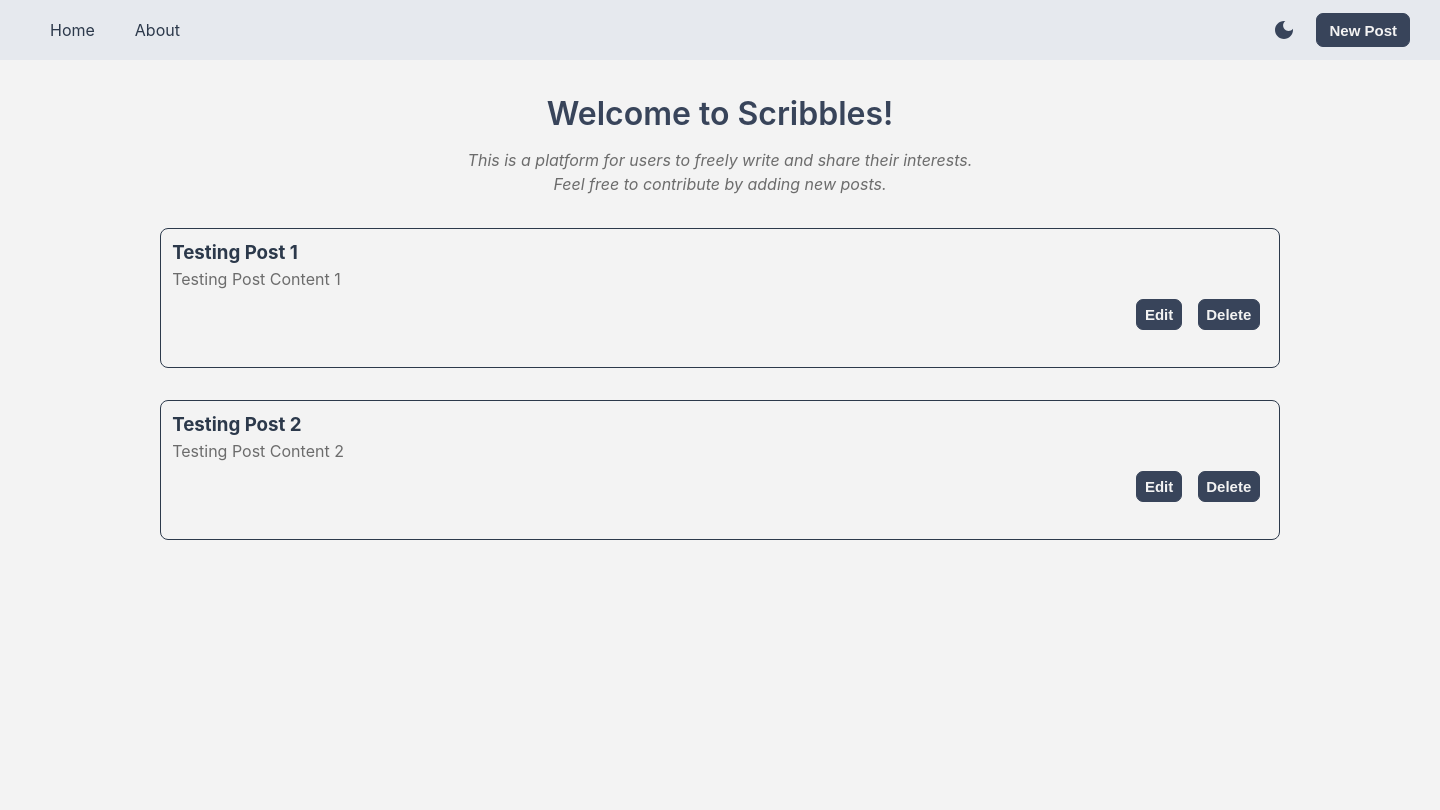
Test: App Component › edit post
Click the 1st button "Edit": (1159, 314) x1=1136 y1=299 x2=1182 y2=330
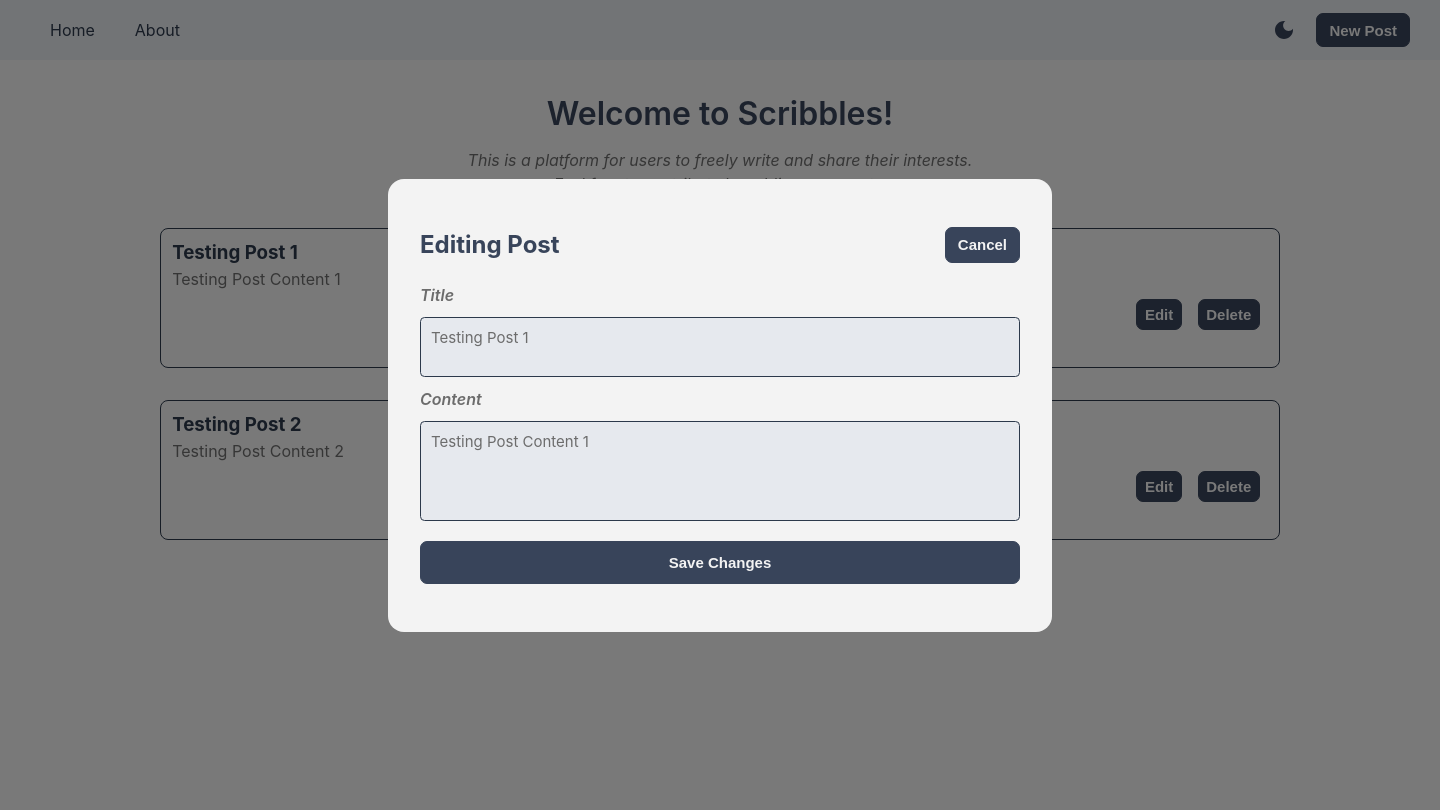
Check: the heading "Editing Post" is shown, box x1=420 y1=226 x2=560 y2=262
Check: the text box "Testing Post 1" is shown
Check: the text box "Testing Post Content 1" is shown, box x1=420 y1=420 x2=1020 y2=520
Replace the text in the text box with placeholder "Enter title" with "Change Post Title 1": (720, 346) x1=420 y1=316 x2=1020 y2=376
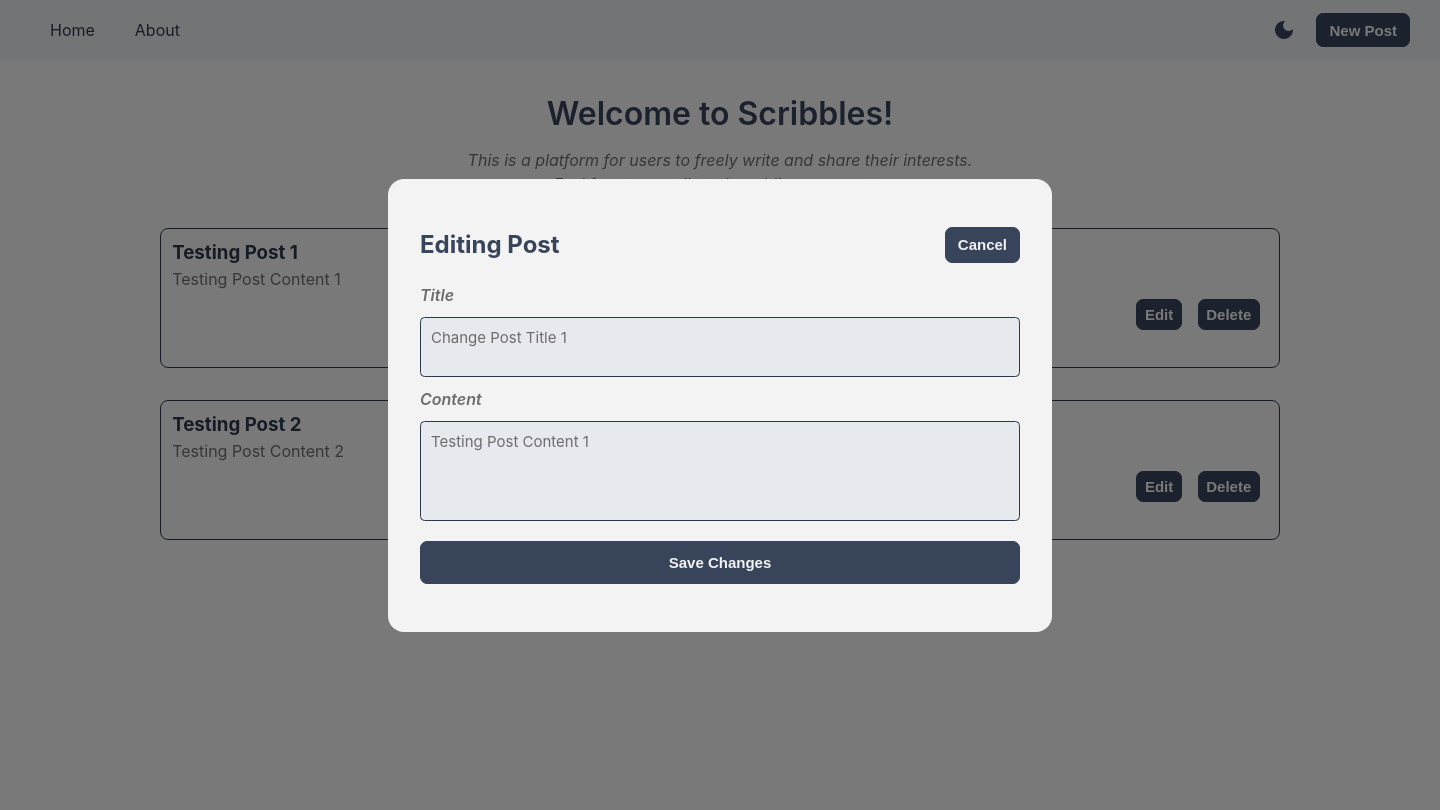
Replace the text in the text box with placeholder "Enter content" with "Change Post Content 1": (720, 470) x1=420 y1=420 x2=1020 y2=520
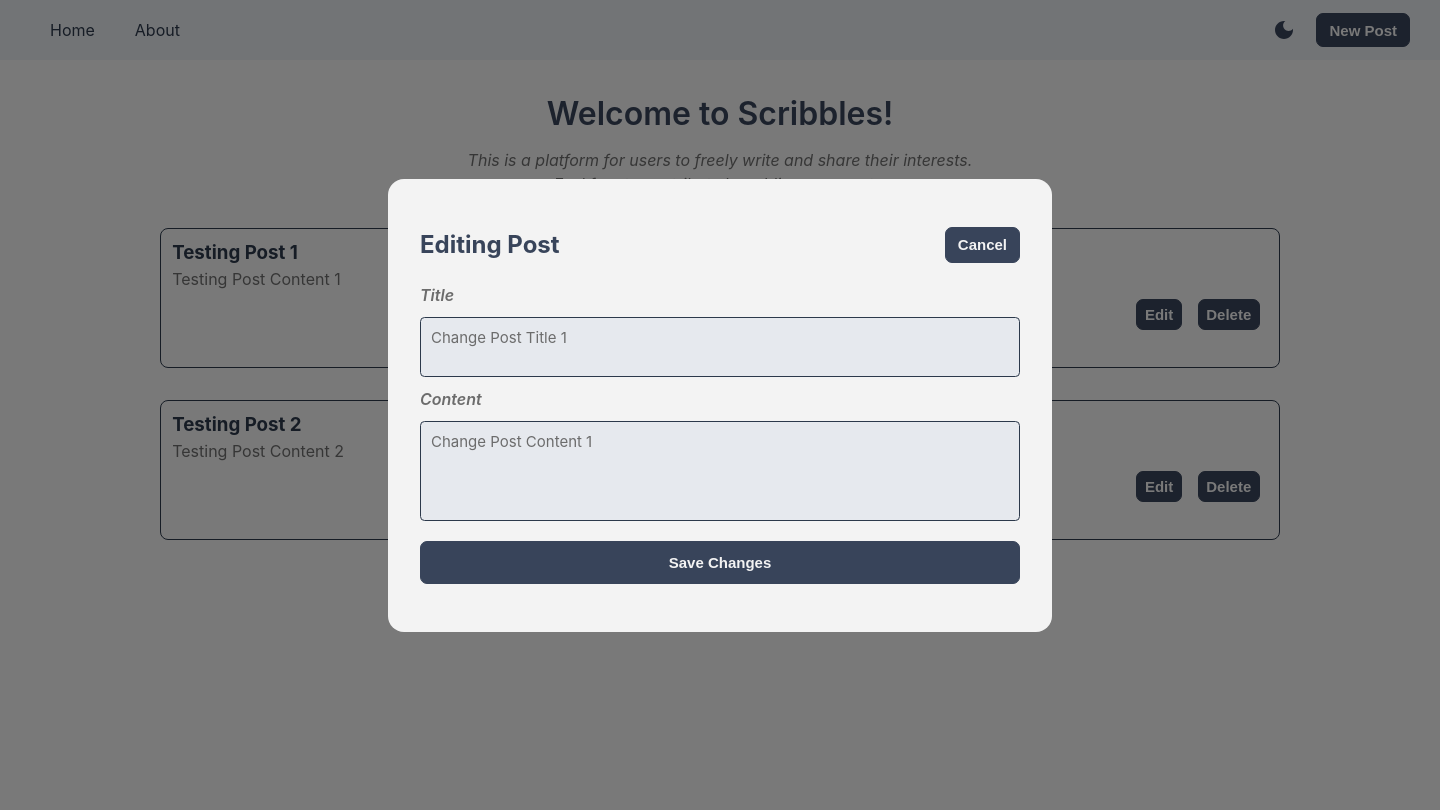
Click the button "Save Changes": (720, 562) x1=420 y1=540 x2=1020 y2=584
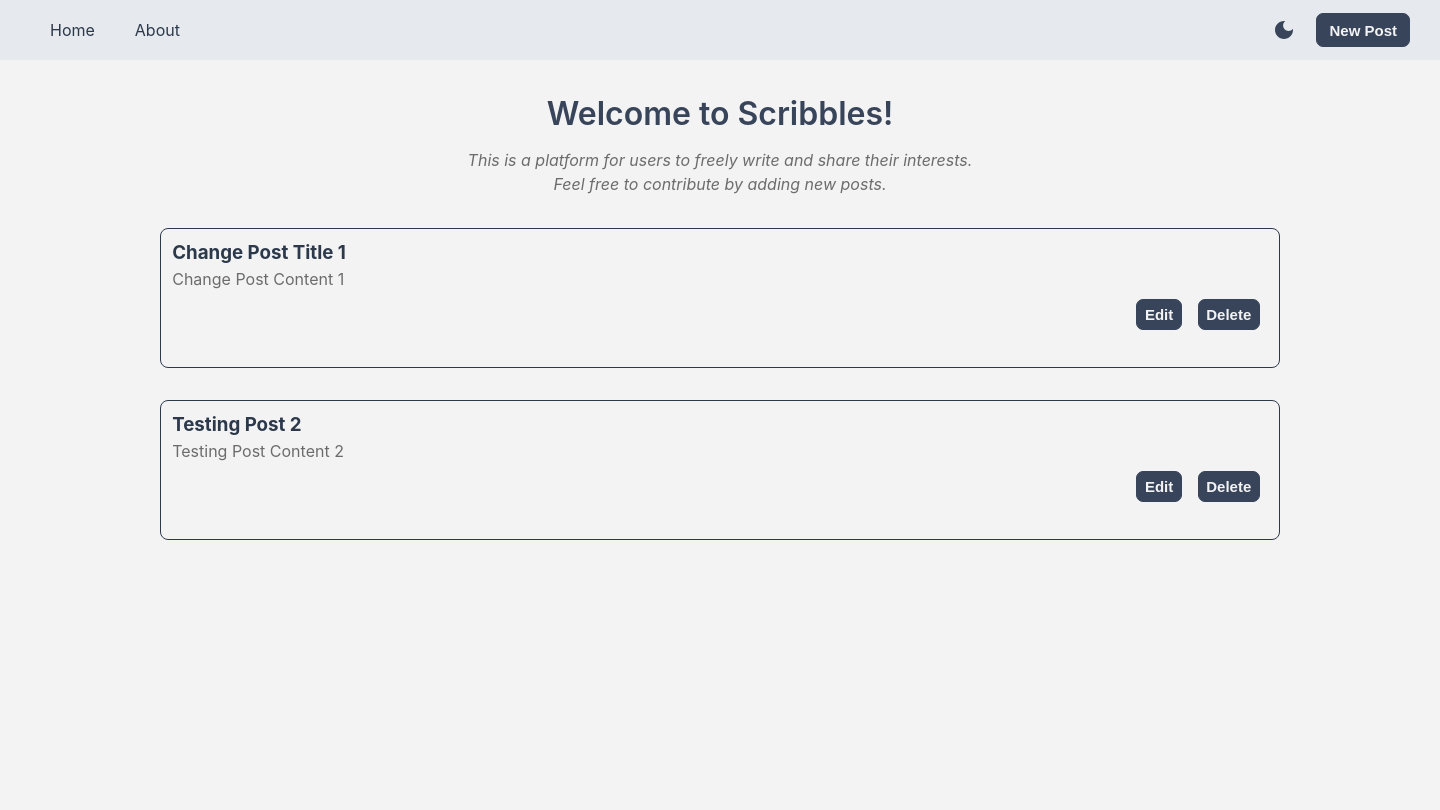
Check: the heading "Change Post Title 1" is shown, box x1=172 y1=241 x2=346 y2=264
Check: the text "Change Post Content 1" is shown, box x1=172 y1=269 x2=344 y2=289
Check: the heading "Testing Post 1" is gone
